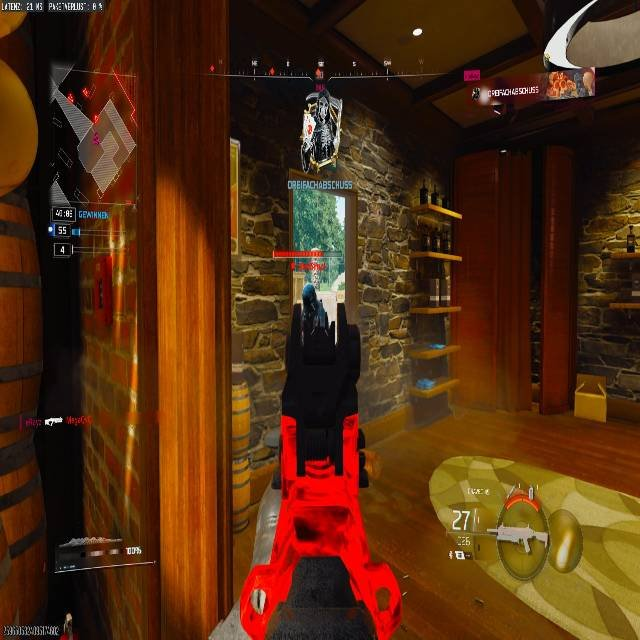player: (298, 282, 327, 329)
